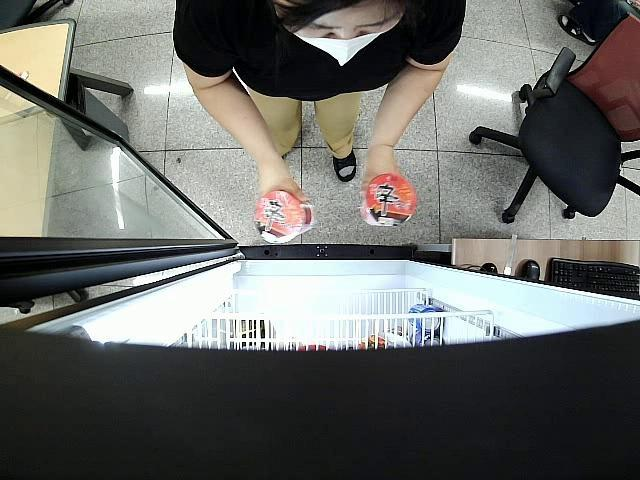02_shinRamen_S: (253, 190, 316, 244), (361, 175, 416, 226)
